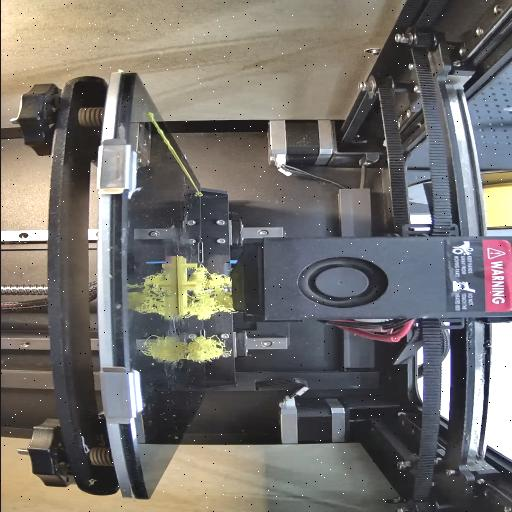spaghetti: (188, 266, 236, 322), (183, 336, 226, 368)
